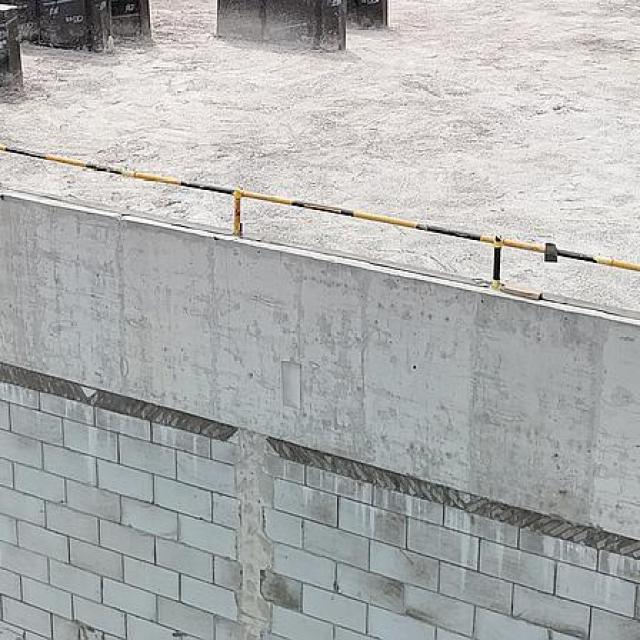edge_guardrail: (0, 143, 640, 290)
